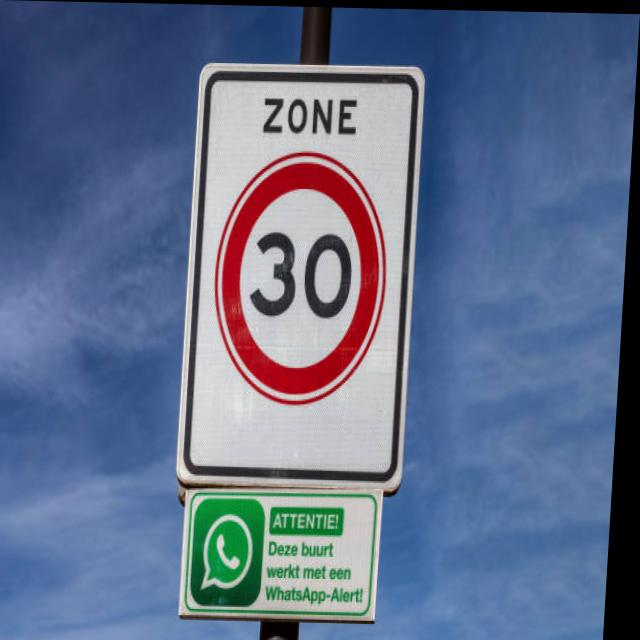Speed limit 30: (212, 146, 397, 408)
